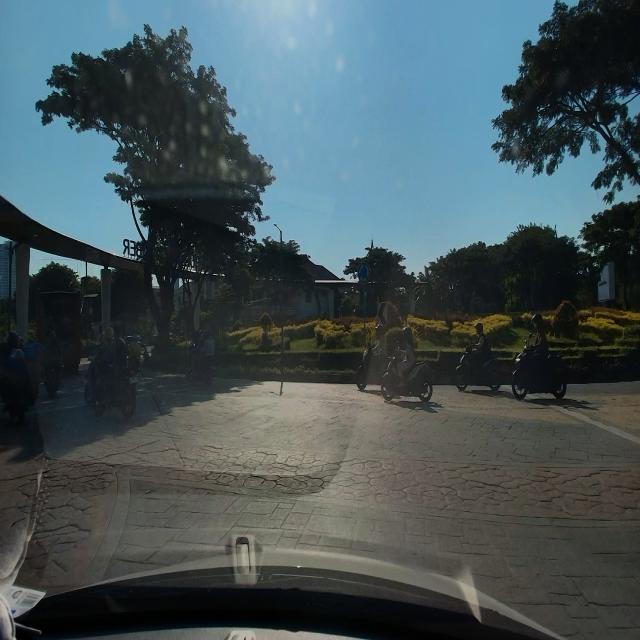bus: (34, 286, 83, 377)
